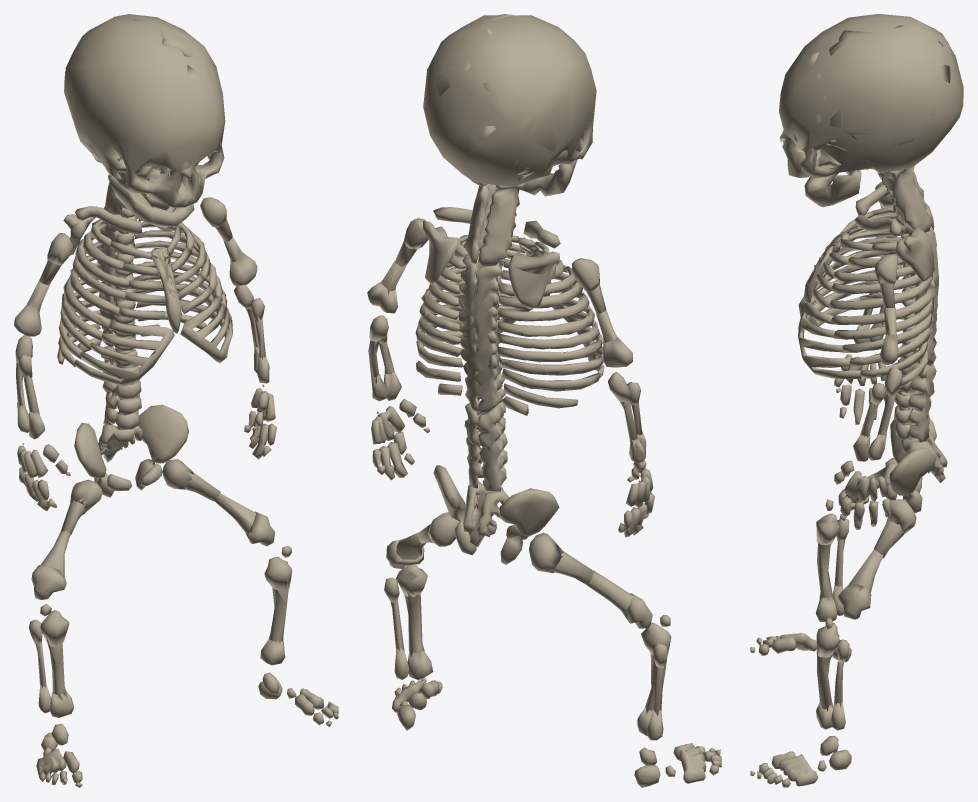
File: pediatric_neonate_male.skeletal.LOD3.glb
The picture shows the model from 3 angles, left to right: view 1: azimuth 30°, elevation 25°; view 2: azimuth 150°, elevation 25°; view 3: azimuth 270°, elevation 25°; orthographic projection. The views are drawn at different scales.
Parts seen in each view (by area): view 1: PEDIATRIC.NEONATE.MALE.SKELETAL.CARTILAGE_TRUNK, PEDIATRIC.NEONATE.MALE.SKELETAL.CARTILAGE_HEAD, PEDIATRIC.NEONATE.MALE.SKELETAL.CARTILAGE_LEGS, PEDIATRIC.NEONATE.MALE.SKELETAL.CARTILAGE_ARMS, PEDIATRIC.NEONATE.MALE.SKELETAL.RIBS_CORTICAL, PEDIATRIC.NEONATE.MALE.SKELETAL.TIBIAE_CORTICAL, PEDIATRIC.NEONATE.MALE.SKELETAL.FEMORA_LOWER_CORTICAL, PEDIATRIC.NEONATE.MALE.SKELETAL.CRANIUM_CORTICAL, PEDIATRIC.NEONATE.MALE.SKELETAL.FEMORA_UPPER_CORTICAL, PEDIATRIC.NEONATE.MALE.SKELETAL.RADII_CORTICAL, PEDIATRIC.NEONATE.MALE.SKELETAL.HUMERI_LOWER_CORTICAL; view 2: PEDIATRIC.NEONATE.MALE.SKELETAL.CARTILAGE_TRUNK, PEDIATRIC.NEONATE.MALE.SKELETAL.CARTILAGE_HEAD, PEDIATRIC.NEONATE.MALE.SKELETAL.CARTILAGE_LEGS, PEDIATRIC.NEONATE.MALE.SKELETAL.CARTILAGE_ARMS, PEDIATRIC.NEONATE.MALE.SKELETAL.RIBS_CORTICAL, PEDIATRIC.NEONATE.MALE.SKELETAL.CRANIUM_CORTICAL, PEDIATRIC.NEONATE.MALE.SKELETAL.FEMORA_LOWER_CORTICAL, PEDIATRIC.NEONATE.MALE.SKELETAL.TIBIAE_CORTICAL, PEDIATRIC.NEONATE.MALE.SKELETAL.FEMORA_UPPER_CORTICAL, PEDIATRIC.NEONATE.MALE.SKELETAL.FIBULAE_CORTICAL, PEDIATRIC.NEONATE.MALE.SKELETAL.HUMERI_LOWER_CORTICAL, PEDIATRIC.NEONATE.MALE.SKELETAL.ULNAE_CORTICAL (+1 smaller); view 3: PEDIATRIC.NEONATE.MALE.SKELETAL.CARTILAGE_HEAD, PEDIATRIC.NEONATE.MALE.SKELETAL.CARTILAGE_TRUNK, PEDIATRIC.NEONATE.MALE.SKELETAL.CARTILAGE_LEGS, PEDIATRIC.NEONATE.MALE.SKELETAL.CARTILAGE_ARMS, PEDIATRIC.NEONATE.MALE.SKELETAL.CRANIUM_CORTICAL, PEDIATRIC.NEONATE.MALE.SKELETAL.RIBS_CORTICAL, PEDIATRIC.NEONATE.MALE.SKELETAL.TIBIAE_CORTICAL, PEDIATRIC.NEONATE.MALE.SKELETAL.FEMORA_LOWER_CORTICAL, PEDIATRIC.NEONATE.MALE.SKELETAL.FEMORA_UPPER_CORTICAL, PEDIATRIC.NEONATE.MALE.SKELETAL.FIBULAE_CORTICAL, PEDIATRIC.NEONATE.MALE.SKELETAL.ULNAE_CORTICAL, PEDIATRIC.NEONATE.MALE.SKELETAL.RADII_CORTICAL.
Part boxes in pixels (x1=…): PEDIATRIC.NEONATE.MALE.SKELETAL.CARTILAGE_TRUNK: x1=57, y1=172, x2=232, y2=497; PEDIATRIC.NEONATE.MALE.SKELETAL.CARTILAGE_HEAD: x1=64, y1=14, x2=225, y2=227; PEDIATRIC.NEONATE.MALE.SKELETAL.CARTILAGE_LEGS: x1=29, y1=459, x2=338, y2=787; PEDIATRIC.NEONATE.MALE.SKELETAL.CARTILAGE_ARMS: x1=14, y1=197, x2=276, y2=510; PEDIATRIC.NEONATE.MALE.SKELETAL.RIBS_CORTICAL: x1=58, y1=208, x2=227, y2=361; PEDIATRIC.NEONATE.MALE.SKELETAL.TIBIAE_CORTICAL: x1=46, y1=578, x2=288, y2=699; PEDIATRIC.NEONATE.MALE.SKELETAL.FEMORA_LOWER_CORTICAL: x1=41, y1=493, x2=255, y2=576; PEDIATRIC.NEONATE.MALE.SKELETAL.CRANIUM_CORTICAL: x1=64, y1=19, x2=221, y2=207; PEDIATRIC.NEONATE.MALE.SKELETAL.FEMORA_UPPER_CORTICAL: x1=60, y1=472, x2=220, y2=535; PEDIATRIC.NEONATE.MALE.SKELETAL.RADII_CORTICAL: x1=23, y1=298, x2=265, y2=413; PEDIATRIC.NEONATE.MALE.SKELETAL.HUMERI_LOWER_CORTICAL: x1=27, y1=236, x2=242, y2=311; PEDIATRIC.NEONATE.MALE.SKELETAL.CARTILAGE_TRUNK: x1=415, y1=180, x2=604, y2=564; PEDIATRIC.NEONATE.MALE.SKELETAL.CARTILAGE_HEAD: x1=423, y1=15, x2=596, y2=196; PEDIATRIC.NEONATE.MALE.SKELETAL.CARTILAGE_LEGS: x1=384, y1=512, x2=721, y2=787; PEDIATRIC.NEONATE.MALE.SKELETAL.CARTILAGE_ARMS: x1=367, y1=218, x2=654, y2=537; PEDIATRIC.NEONATE.MALE.SKELETAL.RIBS_CORTICAL: x1=416, y1=235, x2=603, y2=414; PEDIATRIC.NEONATE.MALE.SKELETAL.CRANIUM_CORTICAL: x1=424, y1=14, x2=592, y2=180; PEDIATRIC.NEONATE.MALE.SKELETAL.FEMORA_LOWER_CORTICAL: x1=396, y1=532, x2=634, y2=613; PEDIATRIC.NEONATE.MALE.SKELETAL.TIBIAE_CORTICAL: x1=404, y1=592, x2=668, y2=713; PEDIATRIC.NEONATE.MALE.SKELETAL.FEMORA_UPPER_CORTICAL: x1=418, y1=524, x2=593, y2=584; PEDIATRIC.NEONATE.MALE.SKELETAL.FIBULAE_CORTICAL: x1=390, y1=599, x2=663, y2=716; PEDIATRIC.NEONATE.MALE.SKELETAL.HUMERI_LOWER_CORTICAL: x1=380, y1=261, x2=617, y2=342; PEDIATRIC.NEONATE.MALE.SKELETAL.ULNAE_CORTICAL: x1=368, y1=340, x2=637, y2=443; PEDIATRIC.NEONATE.MALE.SKELETAL.CARTILAGE_HEAD: x1=779, y1=14, x2=963, y2=207; PEDIATRIC.NEONATE.MALE.SKELETAL.CARTILAGE_TRUNK: x1=798, y1=166, x2=947, y2=512; PEDIATRIC.NEONATE.MALE.SKELETAL.CARTILAGE_LEGS: x1=750, y1=457, x2=916, y2=787; PEDIATRIC.NEONATE.MALE.SKELETAL.CARTILAGE_ARMS: x1=834, y1=182, x2=902, y2=529; PEDIATRIC.NEONATE.MALE.SKELETAL.CRANIUM_CORTICAL: x1=783, y1=25, x2=959, y2=174; PEDIATRIC.NEONATE.MALE.SKELETAL.RIBS_CORTICAL: x1=829, y1=209, x2=932, y2=380; PEDIATRIC.NEONATE.MALE.SKELETAL.TIBIAE_CORTICAL: x1=817, y1=541, x2=833, y2=711; PEDIATRIC.NEONATE.MALE.SKELETAL.FEMORA_LOWER_CORTICAL: x1=845, y1=473, x2=883, y2=593; PEDIATRIC.NEONATE.MALE.SKELETAL.FEMORA_UPPER_CORTICAL: x1=873, y1=467, x2=904, y2=558; PEDIATRIC.NEONATE.MALE.SKELETAL.FIBULAE_CORTICAL: x1=834, y1=539, x2=844, y2=708; PEDIATRIC.NEONATE.MALE.SKELETAL.ULNAE_CORTICAL: x1=877, y1=306, x2=895, y2=459; PEDIATRIC.NEONATE.MALE.SKELETAL.RADII_CORTICAL: x1=860, y1=292, x2=880, y2=438.
Bounding box in the file's own units: 0.2147 × 0.4767 × 0.1324.
